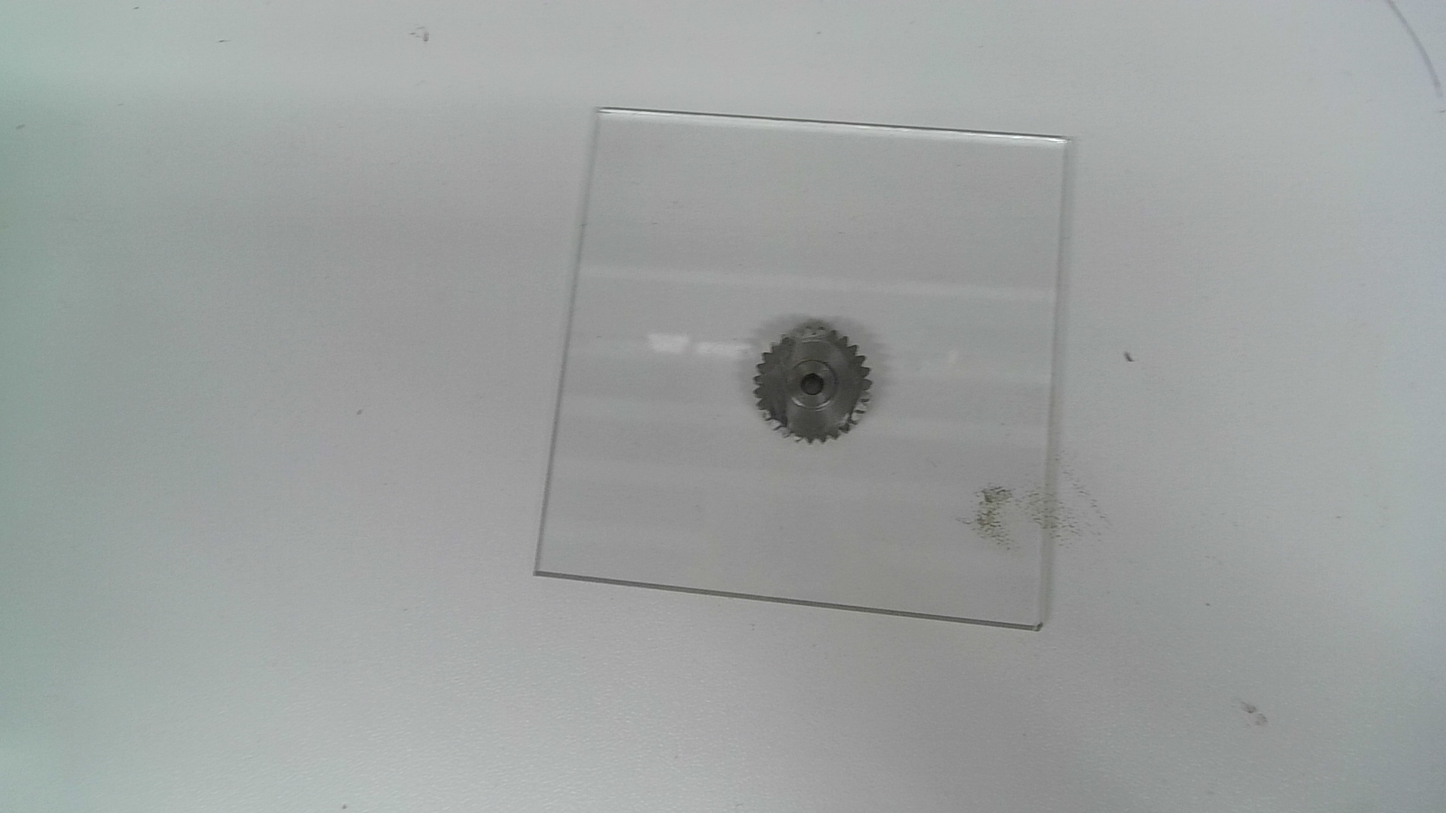gear: (751, 323, 876, 448)
